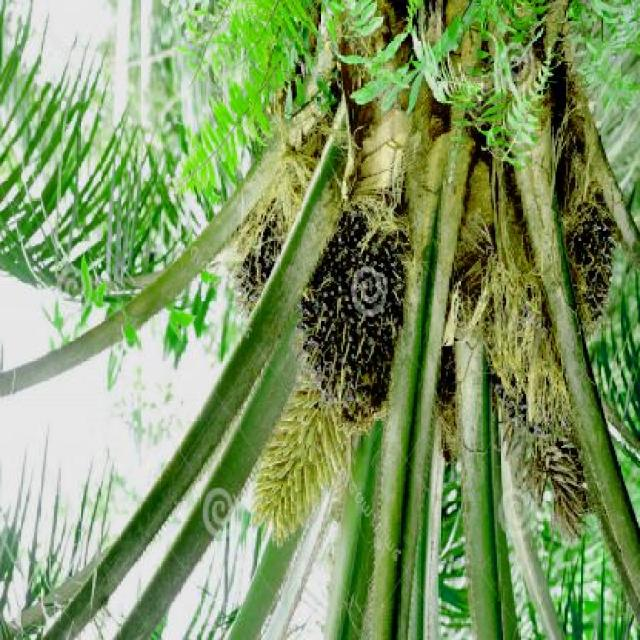palm-oil: (241, 186, 420, 418), (544, 159, 623, 334)
